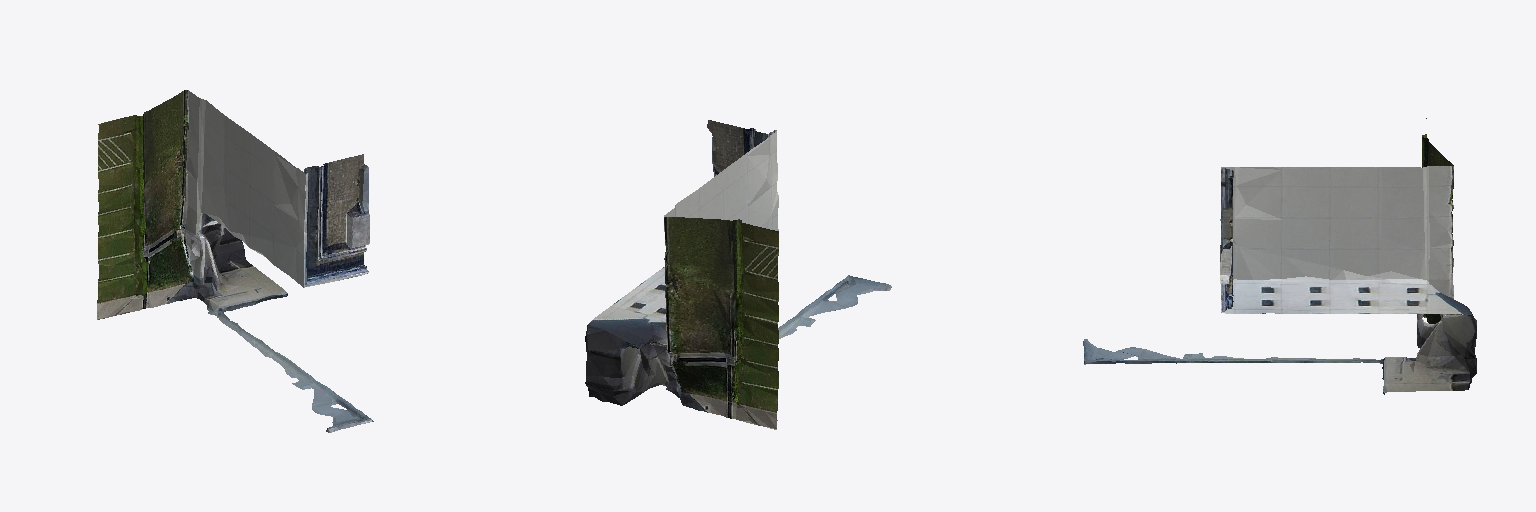
The picture shows the model from 3 angles: view 1: azimuth 30°, elevation 25°; view 2: azimuth 150°, elevation 25°; view 3: azimuth 270°, elevation 25°; orthographic projection.
Visible parts, largest first — view 1: obj_0; view 2: obj_0; view 3: obj_0.
Boxes of the visible parts, box(x1,y1,x2,y2) form: obj_0: box(97, 90, 373, 432); obj_0: box(585, 120, 891, 429); obj_0: box(1083, 118, 1476, 394).
Size of the model in its own units: 20.08 by 22.53 by 40.79.
Materials: 1 (1 with a texture image).